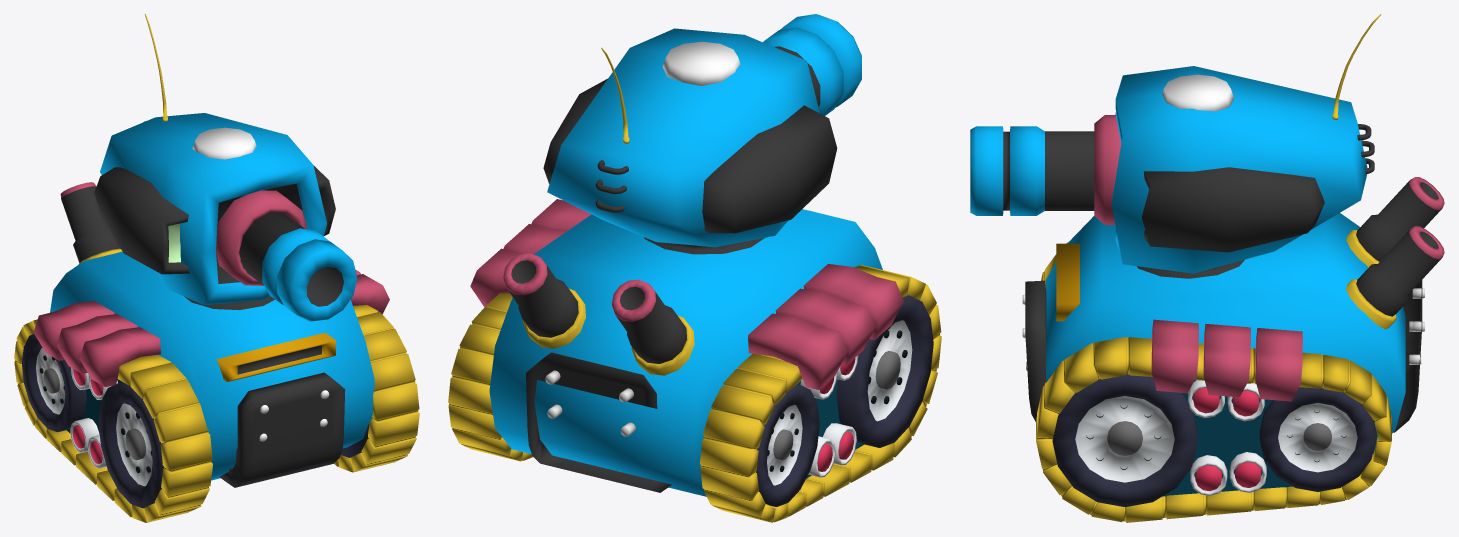
Rendered from Tank6.fbx.
3 views of the same model, side by side, from view 1: azimuth 30°, elevation 25°; view 2: azimuth 150°, elevation 25°; view 3: azimuth 270°, elevation 25° (orthographic). The views are drawn at different scales.
Parts seen in each view (by area): view 1: Tank6, Tank6.Turret, Tank6.Wheel2, Tank6.Wheel4; view 2: Tank6, Tank6.Turret, Tank6.Wheel2, Tank6.Wheel4; view 3: Tank6, Tank6.Turret, Tank6.Wheel1, Tank6.Wheel3.
Boxes of the visible parts, x1,y1,x2,y2 form: Tank6: (14, 182, 419, 522); Tank6.Turret: (94, 14, 357, 321); Tank6.Wheel2: (98, 382, 164, 508); Tank6.Wheel4: (22, 334, 86, 432); Tank6: (448, 199, 941, 522); Tank6.Turret: (543, 14, 861, 254); Tank6.Wheel2: (836, 295, 933, 447); Tank6.Wheel4: (756, 384, 819, 506); Tank6: (1022, 177, 1444, 522); Tank6.Turret: (970, 14, 1381, 278); Tank6.Wheel1: (1052, 374, 1197, 507); Tank6.Wheel3: (1259, 387, 1375, 491).
Size of the model in its own units: 1.6 by 2.06 by 2.
